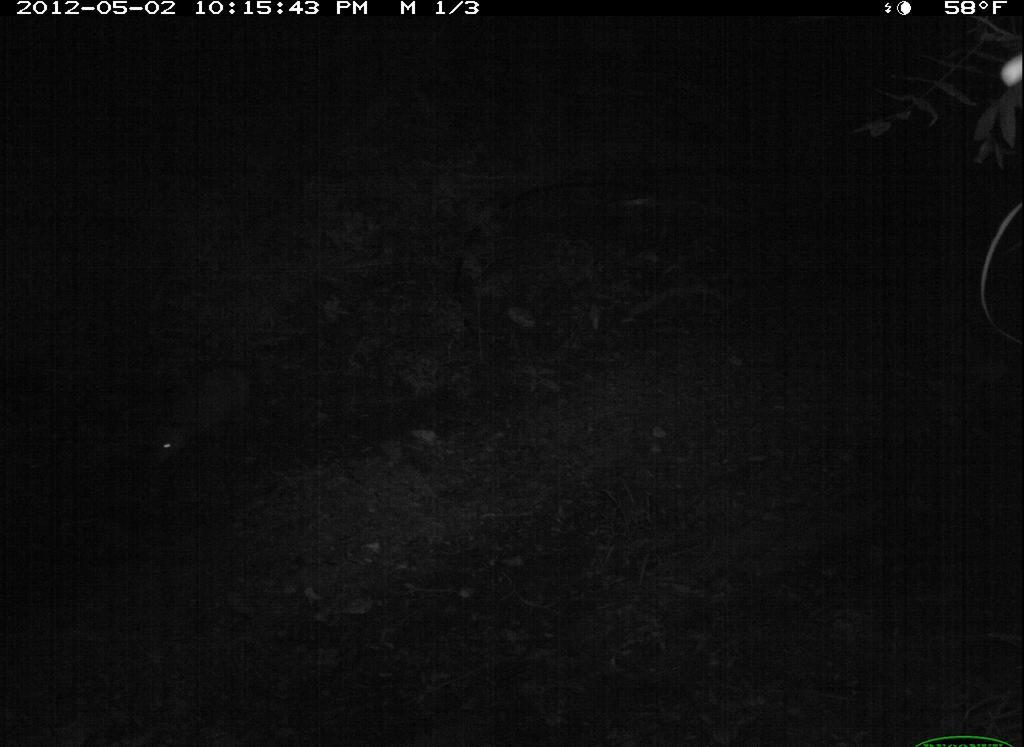opossum: (144, 349, 268, 475)
